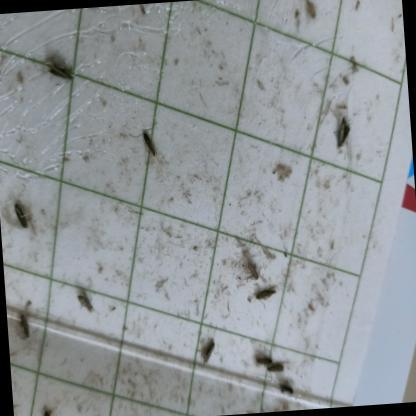prays_oleae: (31, 49, 87, 109), (8, 189, 42, 251), (65, 268, 98, 328), (196, 328, 228, 380), (134, 122, 165, 172), (331, 115, 361, 162), (6, 302, 36, 346), (252, 276, 280, 311), (271, 378, 297, 402), (242, 256, 264, 284), (34, 394, 62, 416), (265, 358, 292, 378), (249, 346, 274, 367)
